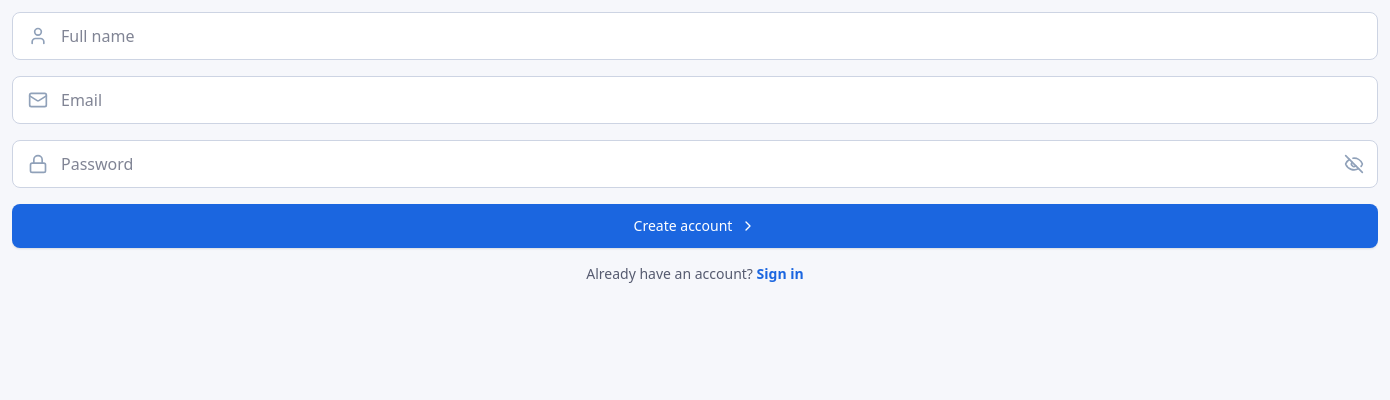
it: resend confirmation email › is offered after signing up when the email still has to be confirmed, and sends a new one to that address
Type "Pat Lee" into the field with placeholder "Full name".
click(695, 36); type("Pat Lee")  # box [12,12,1378,60]
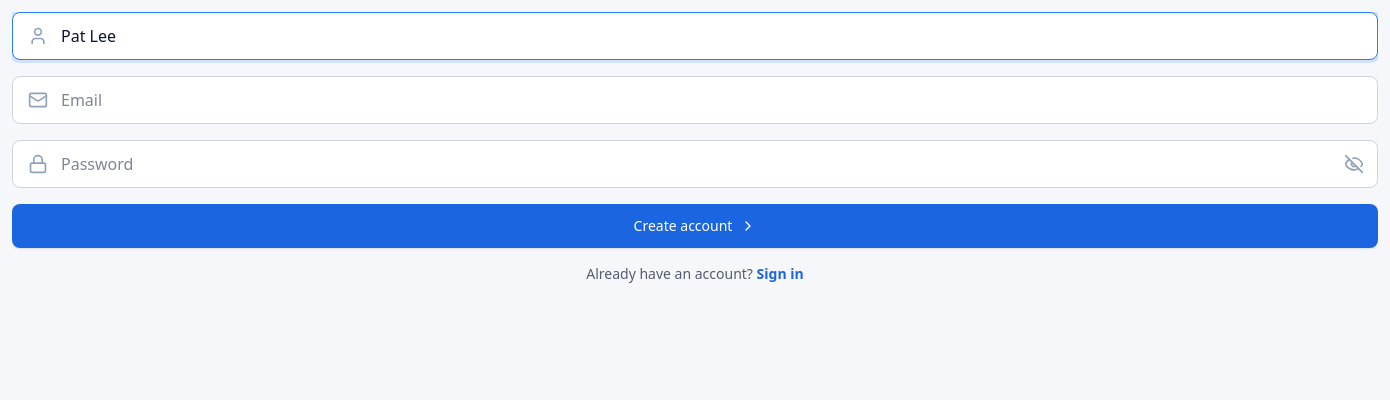
Type "pat@pizza.test" into the field with placeholder "Email".
click(695, 100); type("pat@pizza.test")  # box [12,76,1378,124]
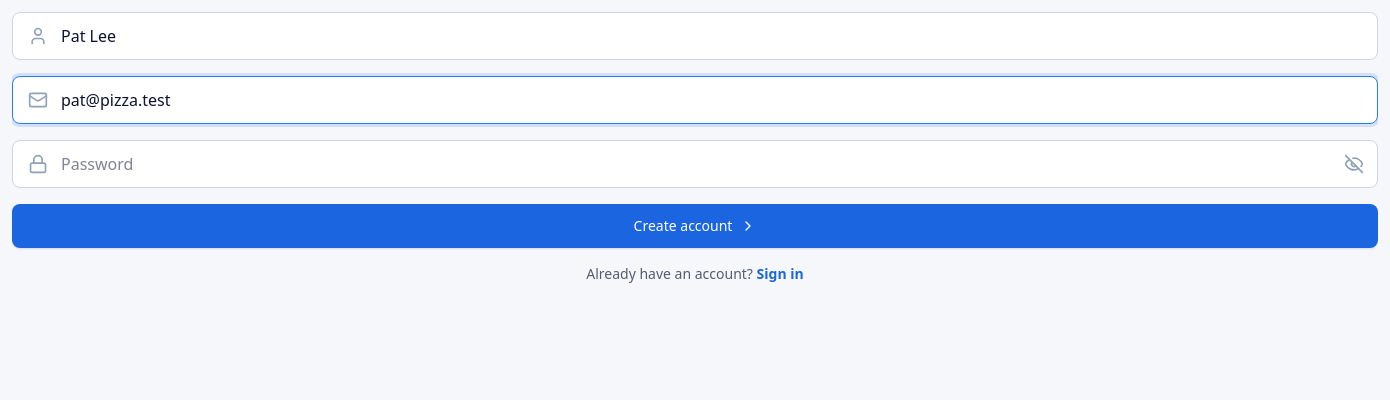
Type "correct-horse-battery" into the password field with placeholder "Password".
click(695, 164); type("correct-horse-battery")  # box [12,140,1378,188]
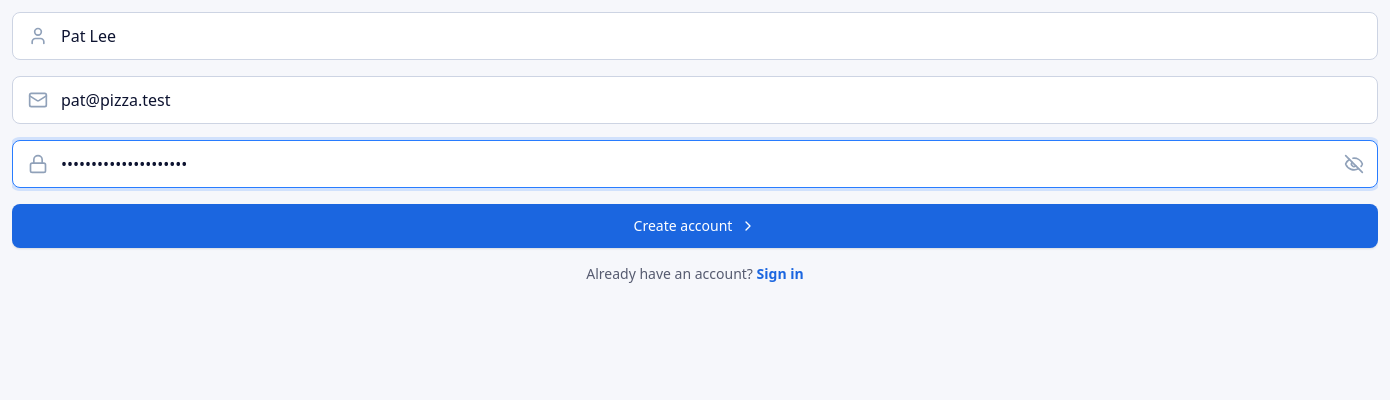
Click the button "Create account".
click(695, 226)  # box [12,204,1378,248]
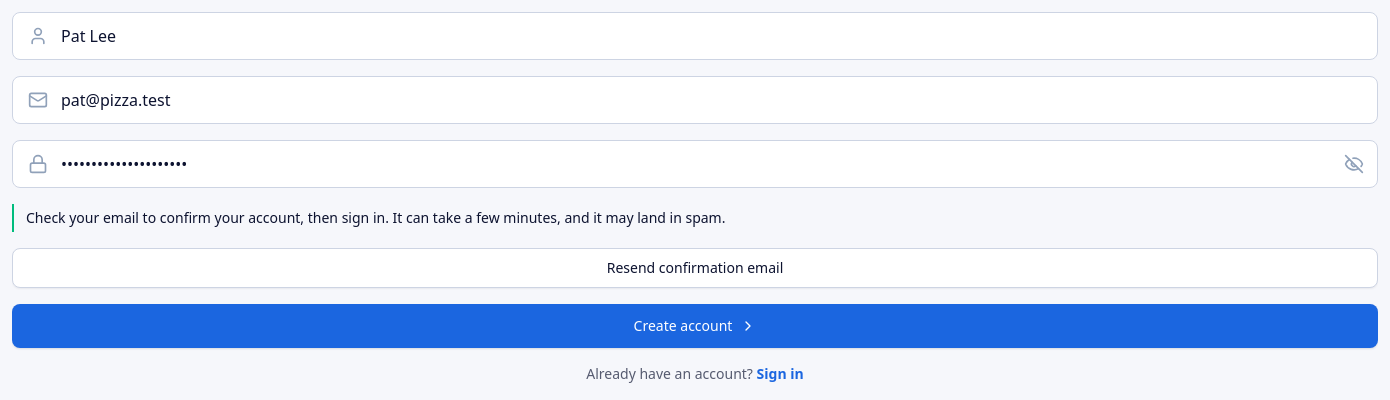
Result: the text "Check your email to confirm" is shown at [26,208,726,227]
Click the button "Resend confirmation email".
click(695, 268)  # box [12,248,1378,288]
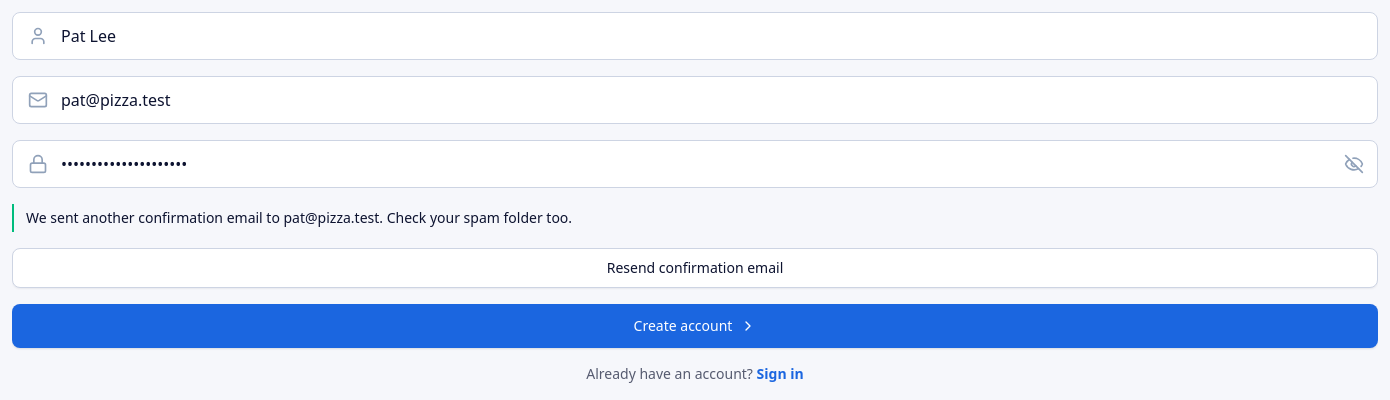
Result: the text "sent another confirmation email to pat@pizza.test" is shown at [26,208,572,227]
